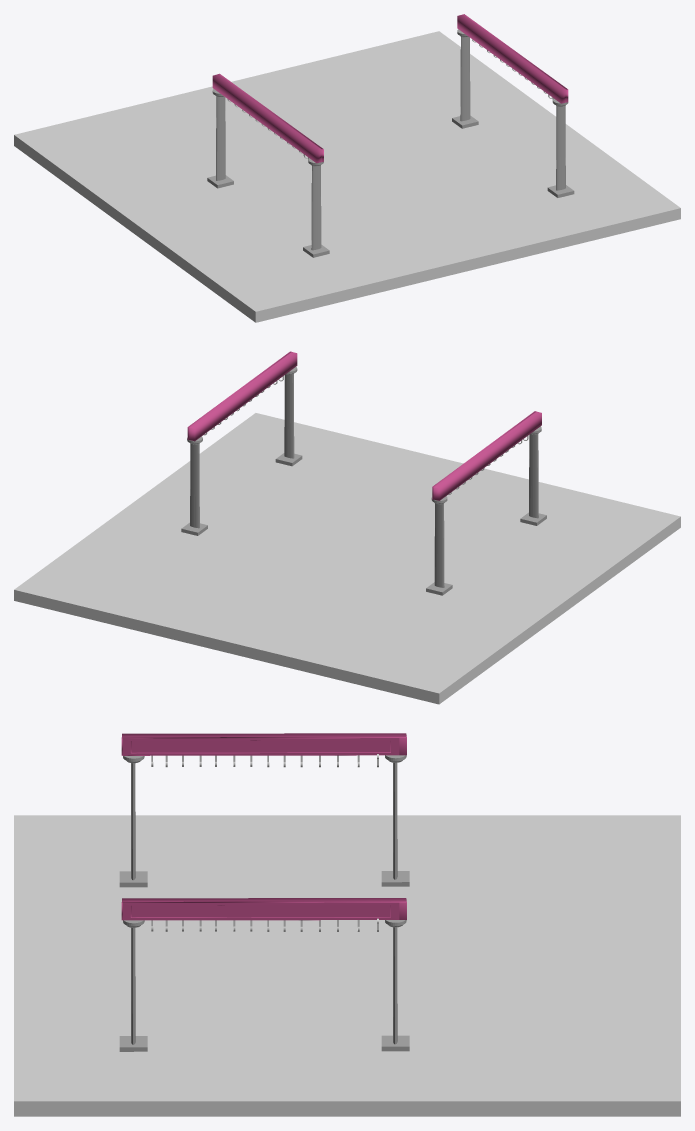
Rendered from cloackroom3state1.fbx.
3 views of the same model, one above another, from view 1: azimuth 30°, elevation 25°; view 2: azimuth 150°, elevation 25°; view 3: azimuth 270°, elevation 25° (orthographic). The views are drawn at different scales.
Parts seen in each view (by area): view 1: Cube, Mesh.001, Mesh.003, Cylinder02.002, Cylinder02.001, Cylinder02, Cylinder02.003; view 2: Cube, Mesh.001, Mesh.003, Cylinder02.003, Cylinder02, Cylinder02.001, Cylinder02.002; view 3: Cube, Mesh.003, Mesh.001, Mesh.000, Mesh.002, Cylinder02, Cylinder02.002, Cylinder02.001, Cylinder02.003.
Part boxes in pixels (x1,y1,x2,y2): Cube: (14, 31, 680, 322); Mesh.001: (457, 14, 568, 103); Mesh.003: (212, 73, 323, 163); Cylinder02.002: (303, 158, 329, 257); Cylinder02.001: (547, 98, 574, 197); Cylinder02: (452, 29, 478, 128); Cylinder02.003: (207, 89, 233, 188); Cube: (14, 413, 680, 704); Mesh.001: (187, 351, 297, 441); Mesh.003: (432, 411, 541, 500); Cylinder02.003: (426, 496, 452, 595); Cylinder02: (181, 436, 207, 535); Cylinder02.001: (275, 367, 302, 466); Cylinder02.002: (520, 426, 546, 525); Cube: (14, 815, 680, 1116); Mesh.003: (121, 733, 406, 755); Mesh.001: (121, 898, 406, 920); Mesh.000: (131, 740, 390, 752); Mesh.002: (131, 905, 390, 917); Cylinder02: (381, 920, 409, 1051); Cylinder02.002: (119, 756, 147, 887); Cylinder02.001: (119, 920, 147, 1051); Cylinder02.003: (381, 755, 409, 886).
Bounding box in the file's own units: 1896 × 507 × 1867.
